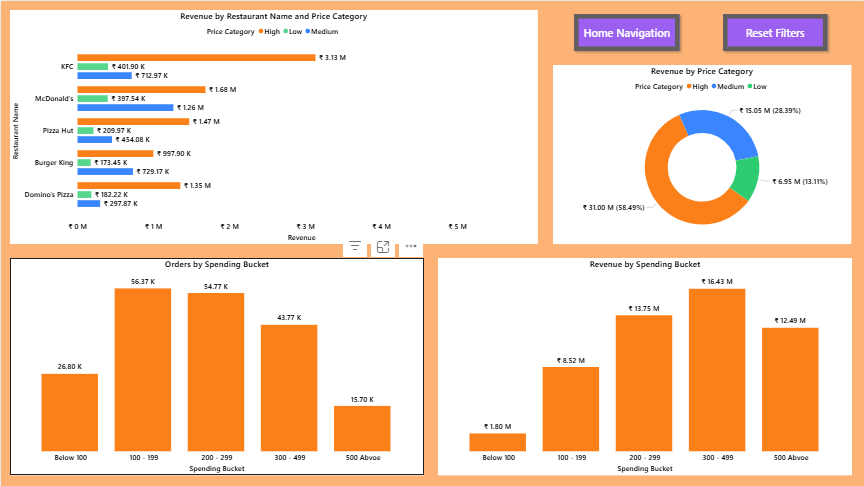

The dashboard page shown, as its layout file describes it:
{"tool":"powerbi","page":{"name":"Pricing & Spending Analysis","canvas":[1920,1080],"ordinal":5},"visuals":[{"type":"donutChart","title":"Revenue by Price Category","fields":{"Category":["fact_swiggy_orders.Price_Category"],"Y":["fact_swiggy_orders.Total Revenue"]},"box":[1227.5,142.5,662.5,397.5],"z":0},{"type":"clusteredColumnChart","title":"Revenue by Spending Bucket","fields":{"Category":["fact_swiggy_orders.Spending Bucket"],"Y":["fact_swiggy_orders.Total Revenue"]},"box":[970,570,920,482.5],"z":1000},{"type":"clusteredBarChart","title":"Revenue by Restaurant Name and Price Category","fields":{"Category":["dim_restaurant.Restaurant_Name"],"Y":["fact_swiggy_orders.Total Revenue"],"Series":["fact_swiggy_orders.Price_Category"]},"box":[20,20,1172.5,520],"z":7000},{"type":"actionButton","box":[1265,20,252.5,100],"z":8000},{"type":"clusteredColumnChart","title":"Orders by Spending Bucket","fields":{"Category":["fact_swiggy_orders.Spending Bucket"],"Y":["fact_swiggy_orders.Total Orders"]},"box":[20,570,920,482.5],"z":9000},{"type":"actionButton","box":[1595,20,250,100],"z":10000}]}

Visuals, with their boxes in screenshot pixels (x1, y1, x2, y2), scaled from the page's 1920x1080 canvas onto the 864x486 screenshot:
"Revenue by Price Category" donutChart: Rect(552, 64, 850, 243)
"Revenue by Spending Bucket" clusteredColumnChart: Rect(436, 256, 850, 474)
"Revenue by Restaurant Name and Price Category" clusteredBarChart: Rect(9, 9, 537, 243)
actionButton: Rect(569, 9, 683, 54)
"Orders by Spending Bucket" clusteredColumnChart: Rect(9, 256, 423, 474)
actionButton: Rect(718, 9, 830, 54)
